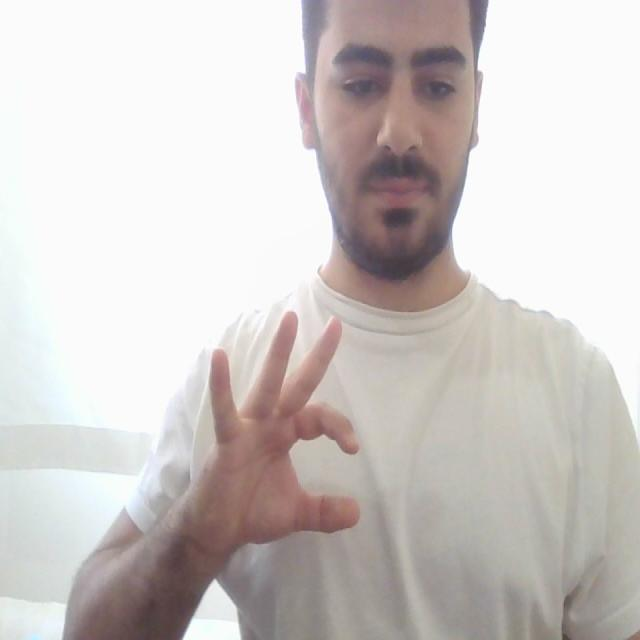Tuvalet: (160, 283, 392, 582)
